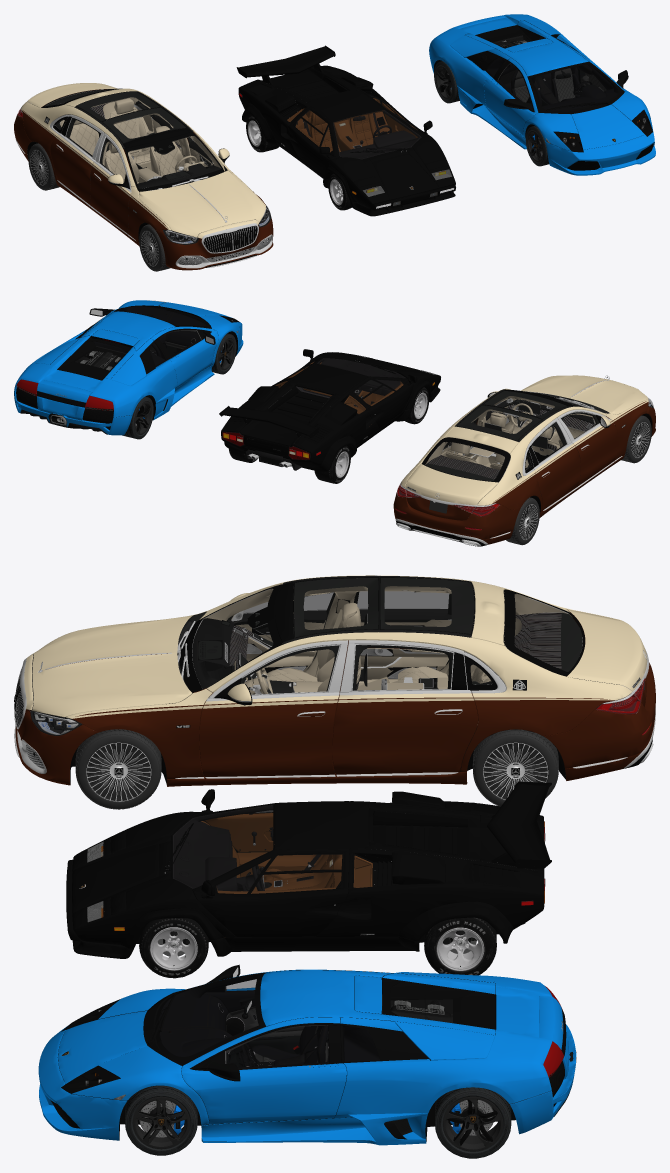
The model's file is cars_27.fbx.
The picture shows the model from 3 angles, top to bottom: view 1: azimuth 30°, elevation 25°; view 2: azimuth 150°, elevation 25°; view 3: azimuth 270°, elevation 25°; orthographic projection. The views are drawn at different scales.
Visible parts, largest first — view 1: Body_SMI_1329060001_006, Body_Car_Paint, Body_Mphong6SG1, Body_Mphong4SG1, Body_Mphong14SG1, SeeThrough_Mphong2SG1, SeeThrough_Glass, SeeThrough_SMI_Glass1, Body_Interior, SeeThrough_Mphong13SG1, Body_Mphong7SG1, Body_SMI_Exhaust1 (+18 smaller); view 2: Body_Car_Paint, Body_SMI_1329060001_006, Body_Mphong4SG1, Body_Mphong6SG1, Body_Mphong14SG1, SeeThrough_Mphong2SG1, SeeThrough_Mphong13SG1, SeeThrough_Glass, Body_Mphong7SG1, Body_SMI_Exhaust1, Body_Misc_Shine, SeeThrough_SMI_Glass1 (+20 smaller); view 3: Body_Car_Paint, Body_SMI_1329060001_006, Body_Mphong4SG1, Body_Mphong6SG1, Body_Mphong14SG1, SeeThrough_Mphong2SG1, SeeThrough_Glass, SeeThrough_SMI_Glass1, SeeThrough_Mphong13SG1, Body_Interior, Body_Mphong7SG1, Body_Misc_Shine (+29 smaller).
Part boxes in pixels (x1,y1,x2,y2): Body_SMI_1329060001_006: (236, 45, 455, 216); Body_Car_Paint: (429, 14, 655, 175); Body_Mphong6SG1: (21, 83, 265, 238); Body_Mphong4SG1: (14, 89, 273, 270); Body_Mphong14SG1: (46, 90, 221, 232); SeeThrough_Mphong2SG1: (46, 89, 270, 244); SeeThrough_Glass: (484, 27, 651, 149); SeeThrough_SMI_Glass1: (287, 96, 421, 158); Body_Interior: (487, 58, 618, 110); SeeThrough_Mphong13SG1: (77, 91, 185, 142); Body_Mphong7SG1: (15, 89, 272, 268); Body_SMI_Exhaust1: (240, 67, 454, 209); Body_Car_Paint: (14, 300, 243, 435); Body_SMI_1329060001_006: (219, 352, 440, 471); Body_Mphong4SG1: (393, 383, 655, 544); Body_Mphong6SG1: (401, 375, 648, 505); Body_Mphong14SG1: (425, 390, 599, 481); SeeThrough_Mphong2SG1: (415, 398, 653, 506); SeeThrough_Mphong13SG1: (457, 391, 566, 440); SeeThrough_Glass: (17, 301, 237, 410); Body_Mphong7SG1: (395, 375, 622, 546); Body_SMI_Exhaust1: (222, 349, 437, 470); Body_Misc_Shine: (57, 308, 239, 380); SeeThrough_SMI_Glass1: (275, 358, 404, 413); Body_Car_Paint: (38, 969, 576, 1145); Body_SMI_1329060001_006: (66, 781, 551, 958); Body_Mphong4SG1: (15, 609, 655, 786); Body_Mphong6SG1: (24, 575, 647, 718); Body_Mphong14SG1: (192, 578, 582, 724); SeeThrough_Mphong2SG1: (15, 589, 643, 735); SeeThrough_Glass: (66, 975, 561, 1090); SeeThrough_SMI_Glass1: (173, 805, 372, 893); SeeThrough_Mphong13SG1: (294, 577, 473, 637); Body_Interior: (160, 974, 382, 1069); Body_Mphong7SG1: (14, 588, 655, 778); Body_Misc_Shine: (61, 964, 495, 1093).
Bounding box in the file's own units: 9.14 × 1.55 × 5.49.
80 materials, 80 textured.
